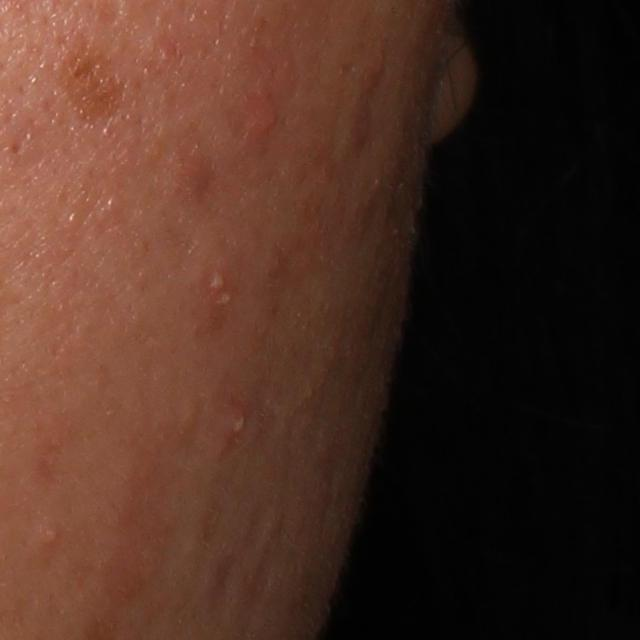papule: (241, 105, 286, 140)
pustule: (198, 257, 239, 309), (226, 402, 250, 443)
